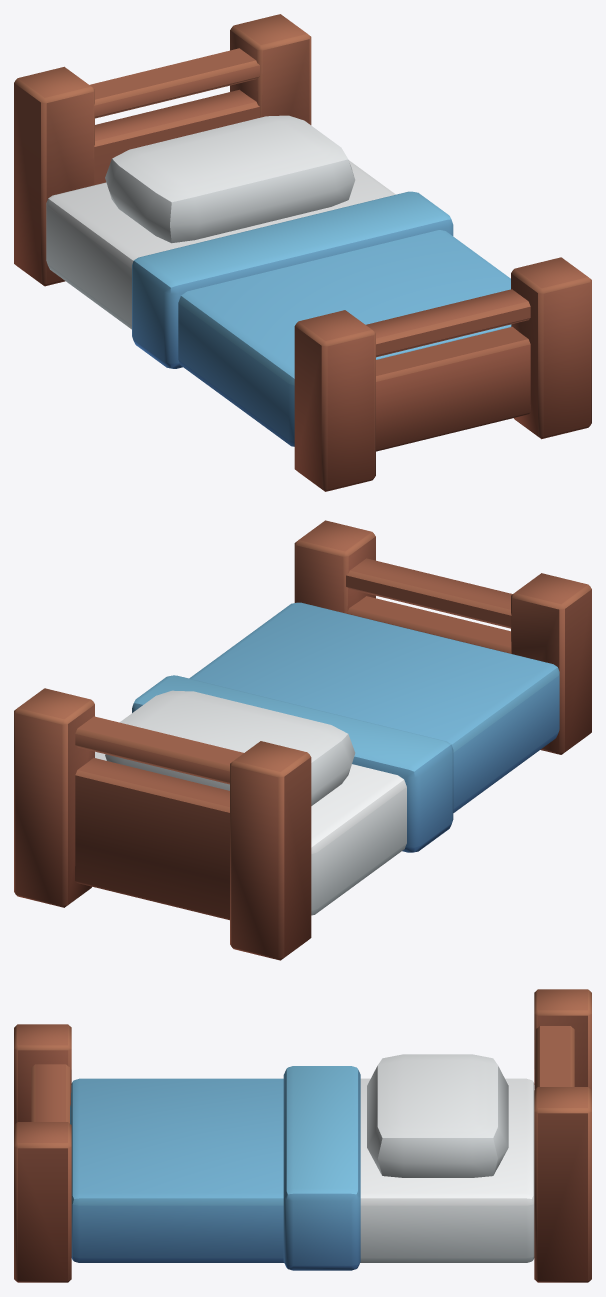
File: bed_single_B.obj
The picture shows the model from 3 angles, top to bottom: view 1: azimuth 30°, elevation 25°; view 2: azimuth 150°, elevation 25°; view 3: azimuth 270°, elevation 25°; orthographic projection. The views are drawn at different scales.
Visible parts, largest first — view 1: bed_single_B_Cube.038; view 2: bed_single_B_Cube.038; view 3: bed_single_B_Cube.038.
Boxes of the visible parts, x1=… form: bed_single_B_Cube.038: x1=14, y1=14, x2=591, y2=491; bed_single_B_Cube.038: x1=14, y1=520, x2=591, y2=960; bed_single_B_Cube.038: x1=14, y1=989, x2=591, y2=1282.
Size of the model in its own units: 1.6 by 1 by 3.
Materials: 1 (1 with a texture image).
